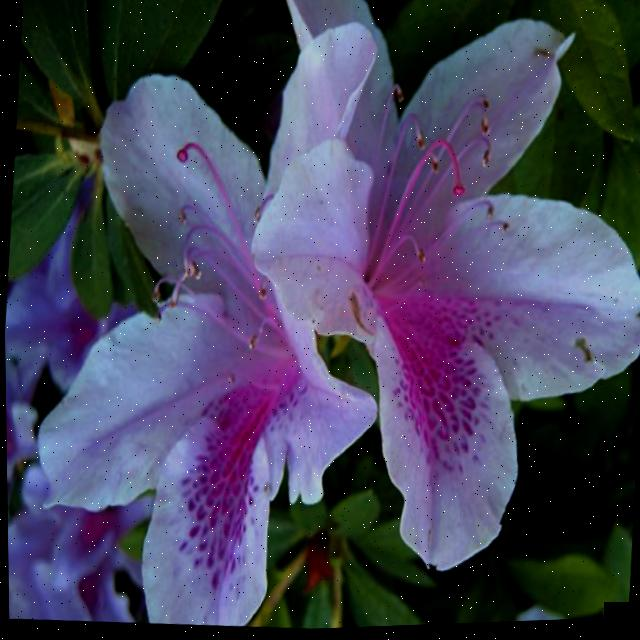azalea: (15, 61, 413, 640), (264, 0, 640, 581)
